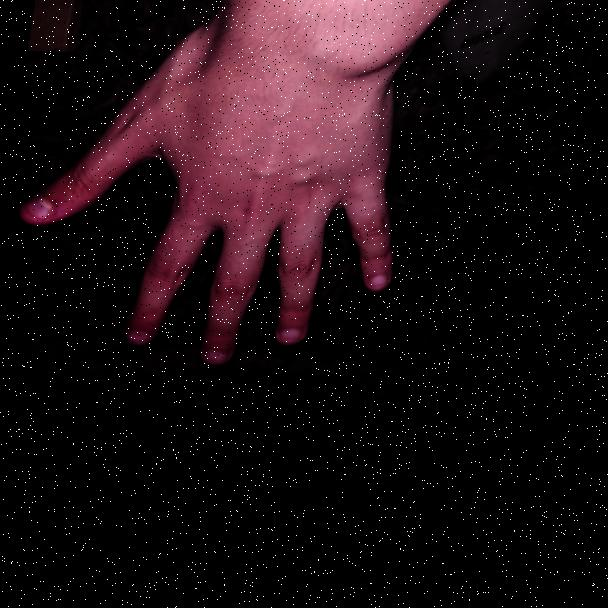five: (0, 0, 439, 434)
